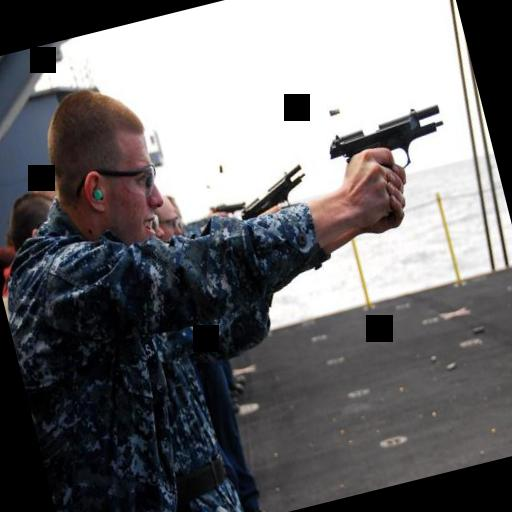Handgun: (320, 100, 454, 192), (224, 153, 312, 233)
